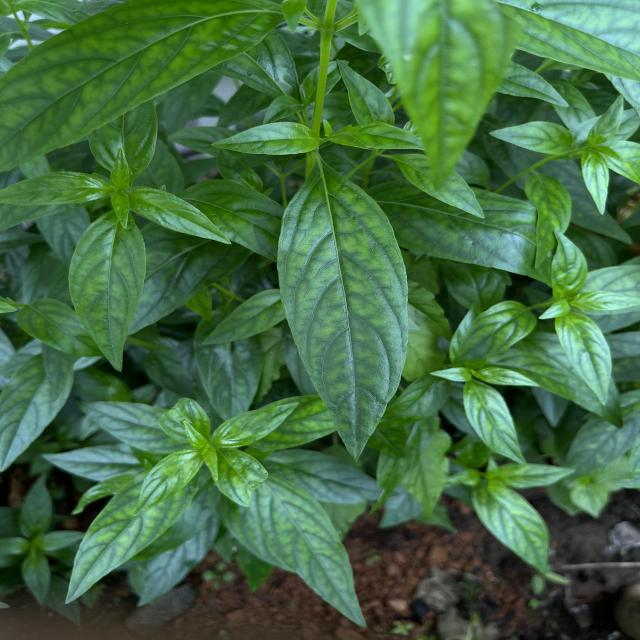Andrographis paniculata: (274, 162, 413, 463), (247, 474, 371, 631), (63, 471, 199, 608), (66, 209, 148, 374), (128, 184, 234, 249), (474, 484, 550, 574), (461, 381, 528, 467), (557, 310, 613, 408), (200, 286, 286, 348), (455, 298, 534, 361), (208, 120, 322, 157), (0, 169, 109, 207), (552, 230, 588, 302)
